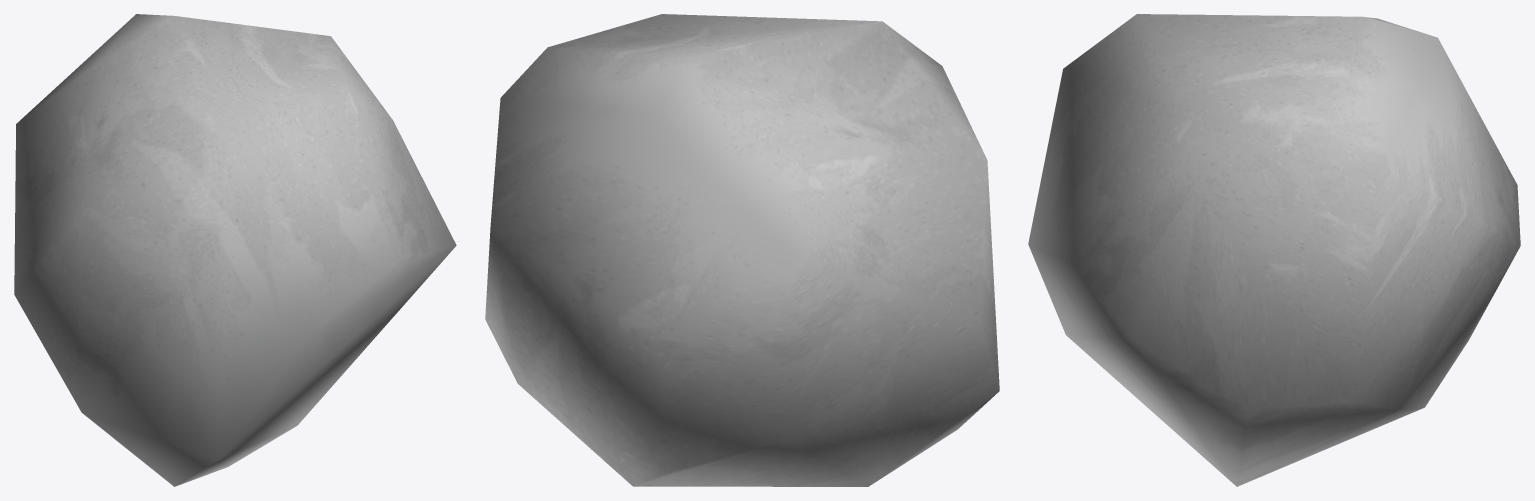
The model's file is Standard Rock.fbx.
The picture shows the model from 3 angles, left to right: view 1: azimuth 30°, elevation 25°; view 2: azimuth 150°, elevation 25°; view 3: azimuth 270°, elevation 25°; orthographic projection. The views are drawn at different scales.
Parts seen in each view (by area): view 1: pPlatonic4; view 2: pPlatonic4; view 3: pPlatonic4.
Part boxes in pixels (box(x1,y1,x2,y2)): pPlatonic4: box(14, 14, 456, 486); pPlatonic4: box(485, 14, 999, 486); pPlatonic4: box(1028, 14, 1520, 486).
Size of the model in its own units: 217 by 206 by 208.
1 material, 1 textured.
